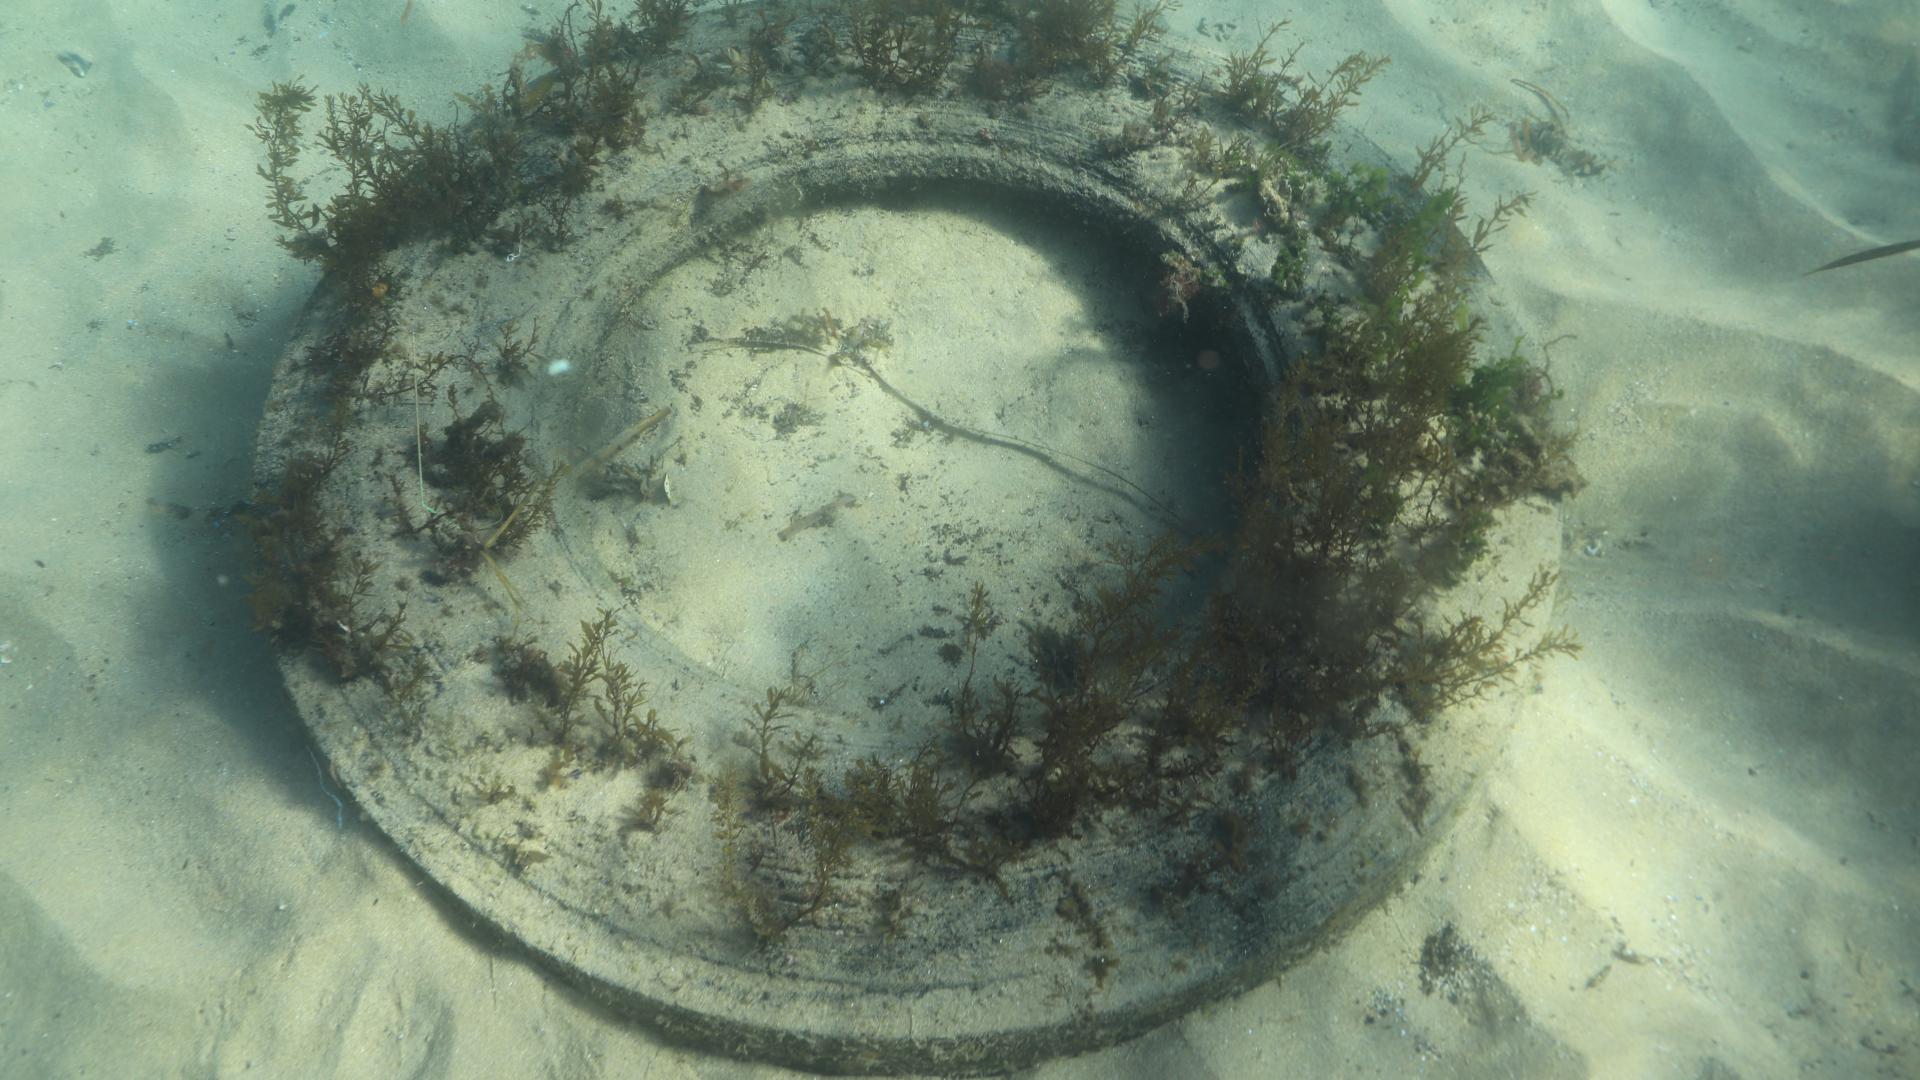tire: (252, 0, 1567, 1079)
